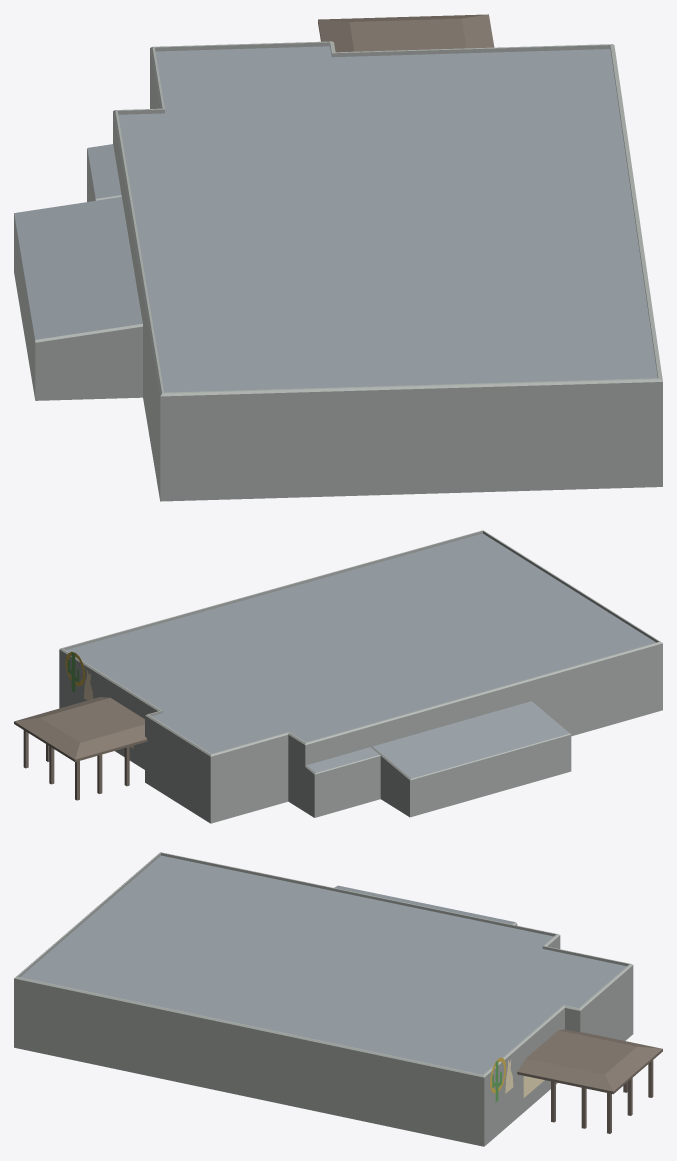
Rendered from detail.glb.
3 renders of one model, top to bottom at view 1: azimuth 30°, elevation 25°; view 2: azimuth 150°, elevation 25°; view 3: azimuth 270°, elevation 25°, orthographic. The views are drawn at different scales.
Visible parts, largest first — view 1: coyote-joes; view 2: coyote-joes; view 3: coyote-joes.
Part boxes in pixels (x1,y1,x2,y2): coyote-joes: (14, 14, 662, 501); coyote-joes: (14, 530, 662, 823); coyote-joes: (14, 852, 662, 1146).
Bounding box in the file's own units: 56.19 × 8.9 × 68.48.
